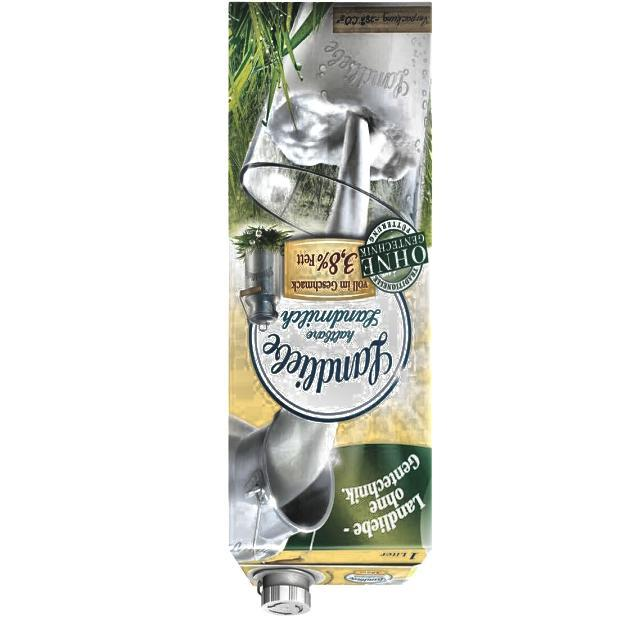cardboard: (228, 2, 434, 606)
